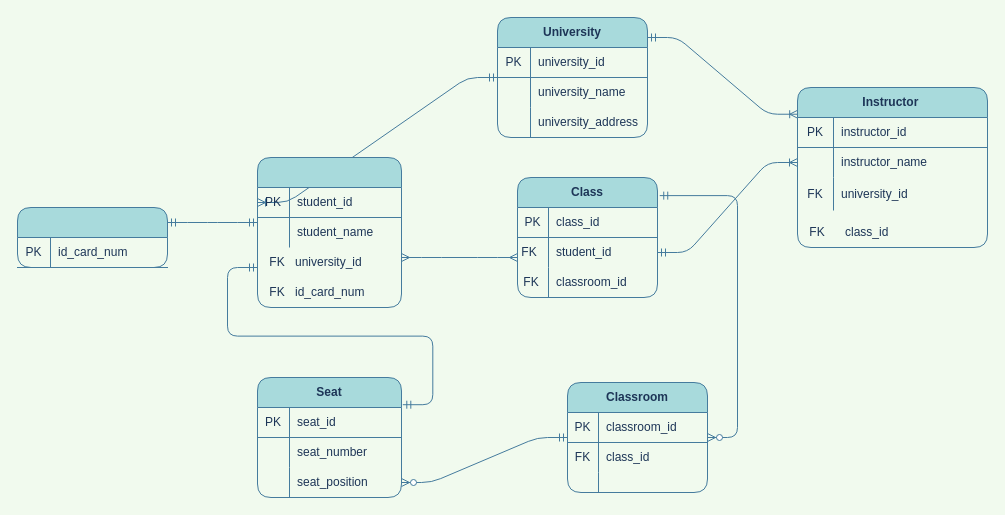
Some shapes in this 1005 by 515 pixel diagram are drawn without their labels. The shapes that lost their labels are listed below. From the top down, each one's box as (x1, y1, x2, y2) in pixels, then its label:
(16, 206, 168, 268): Student ID card
(256, 156, 402, 308): Students
